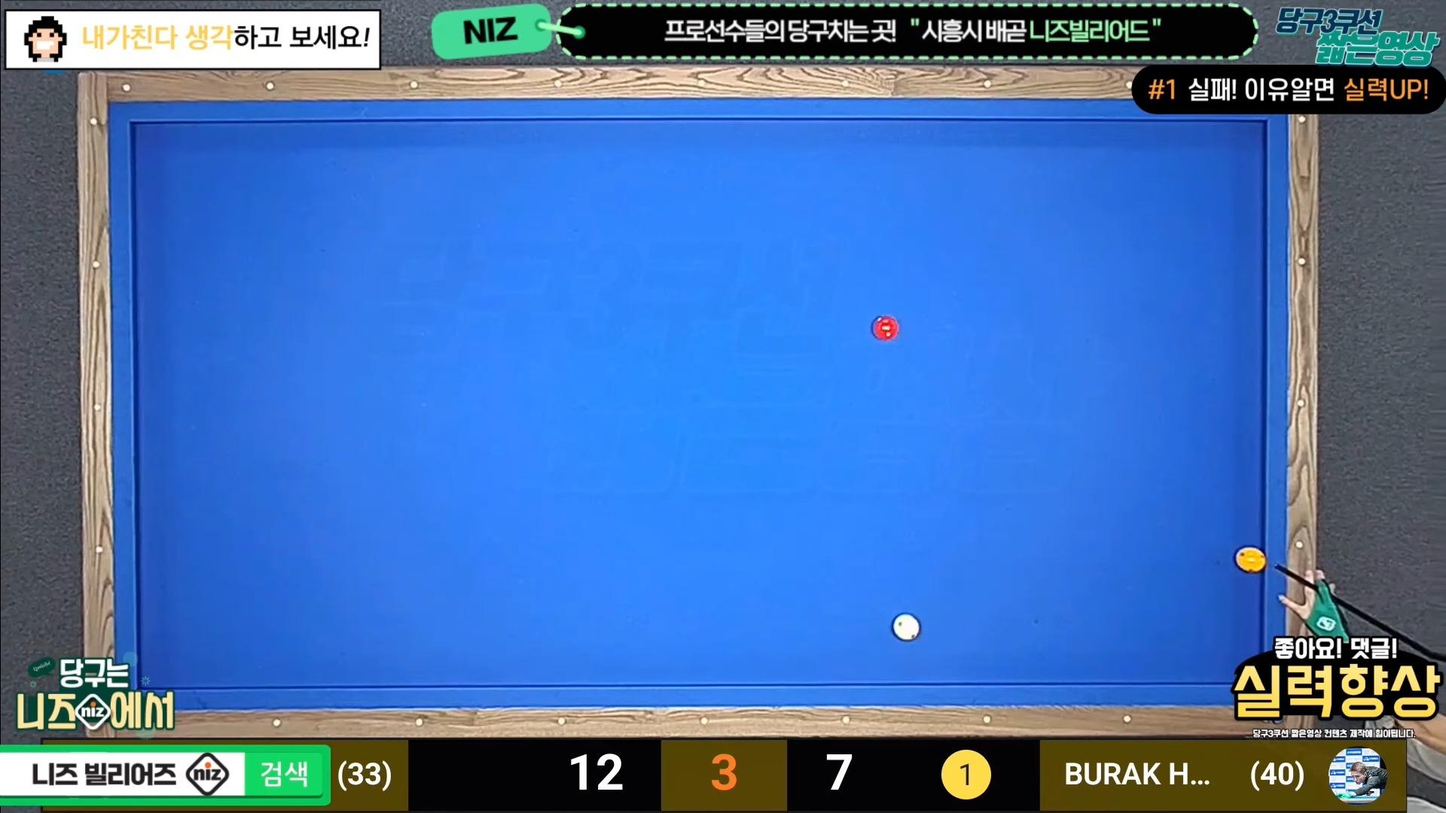-billiard-ball: (890, 612, 920, 642)
Red: (872, 316, 904, 342)
White: (889, 614, 922, 642)
Yellow: (1236, 546, 1272, 573)
billiard-ball-Red: (872, 316, 904, 342)
billiard-ball-Yellow: (1236, 546, 1272, 573)
billiard-ball-white: (889, 614, 922, 642)
